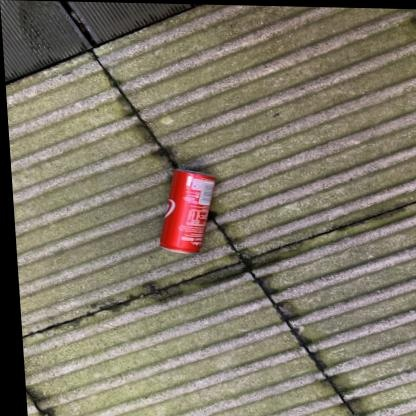trash: (160, 169, 214, 252)
